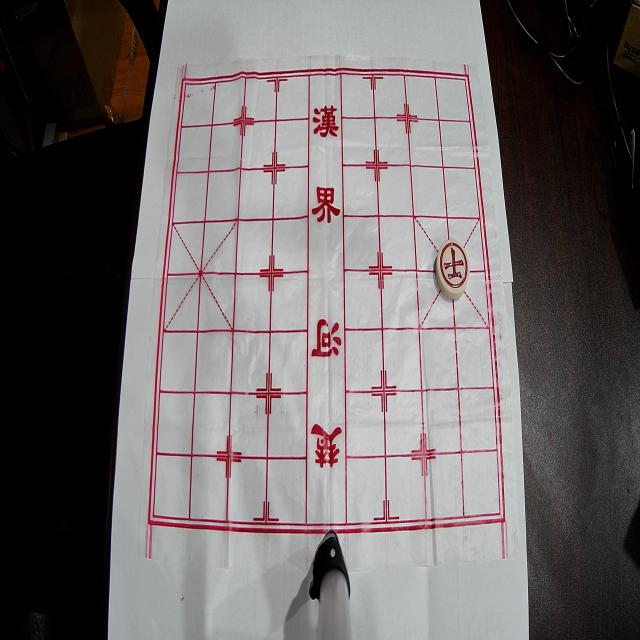red-guard: (436, 240, 470, 299)
